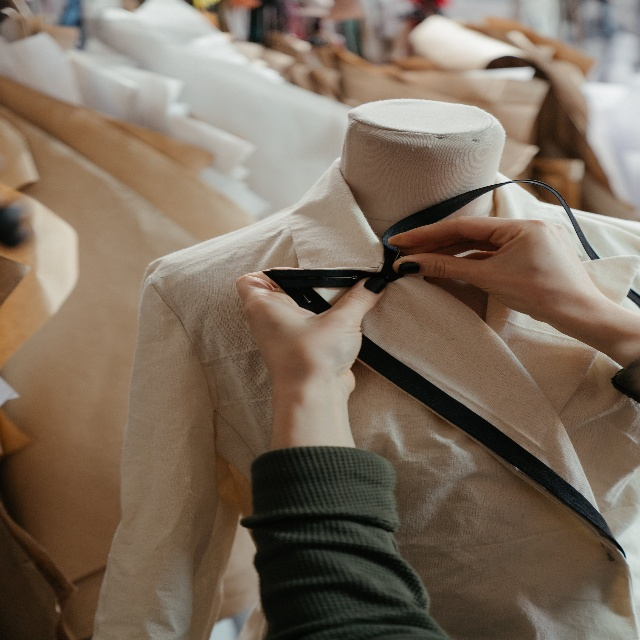Sin_guantes: (387, 214, 591, 332), (234, 266, 388, 405)
